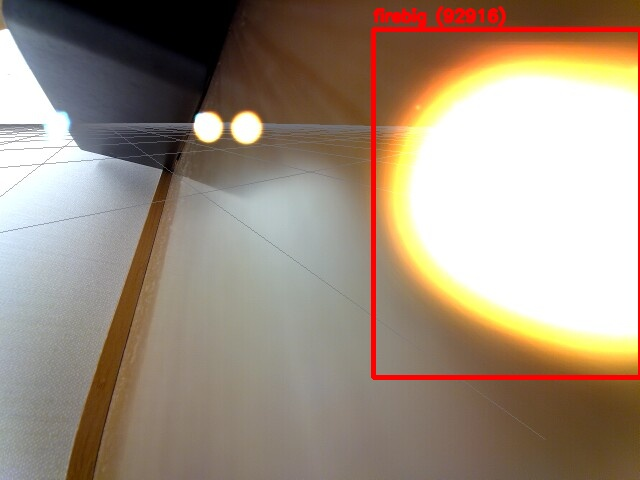firebig: (373, 29, 640, 377)
